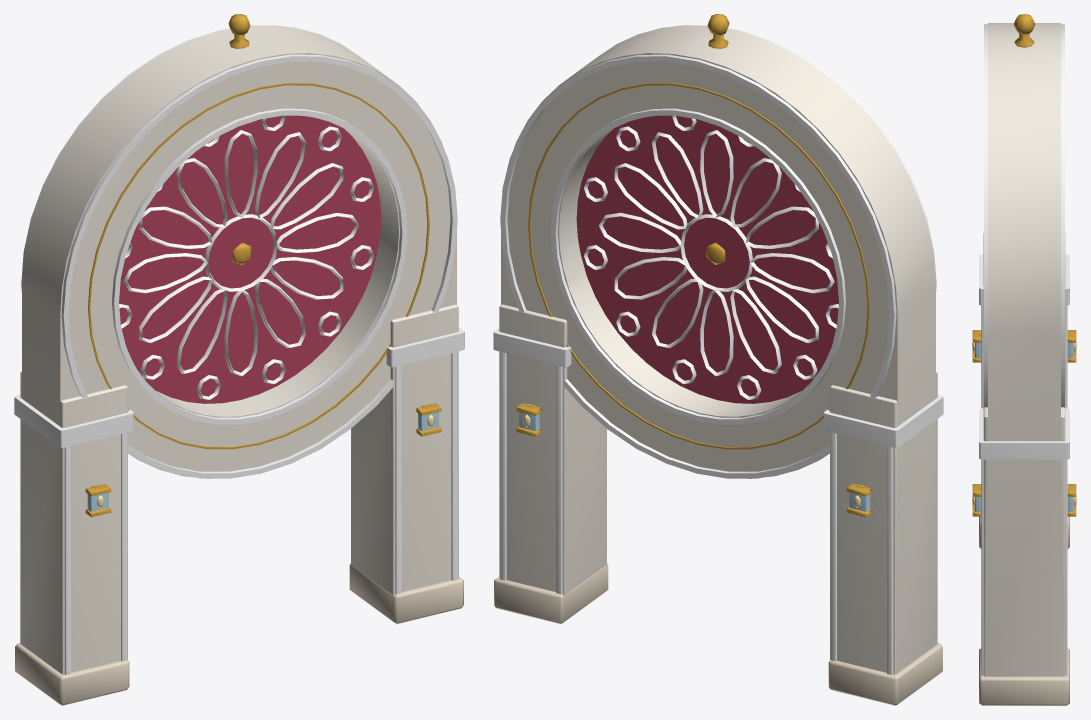
File: plaza_arch.glb
3 renders of one model, left to right at view 1: azimuth 30°, elevation 25°; view 2: azimuth 150°, elevation 25°; view 3: azimuth 270°, elevation 25°, orthographic. The views are drawn at different scales.
Parts seen in each view (by area): view 1: plaza_arch_structure; view 2: plaza_arch_structure; view 3: plaza_arch_structure.
Part boxes in pixels (x1,y1,x2,y2): plaza_arch_structure: [14, 14, 464, 705]; plaza_arch_structure: [493, 14, 943, 705]; plaza_arch_structure: [972, 14, 1076, 705].
Size of the model in its own units: 4.9 by 7.25 by 1.14.
